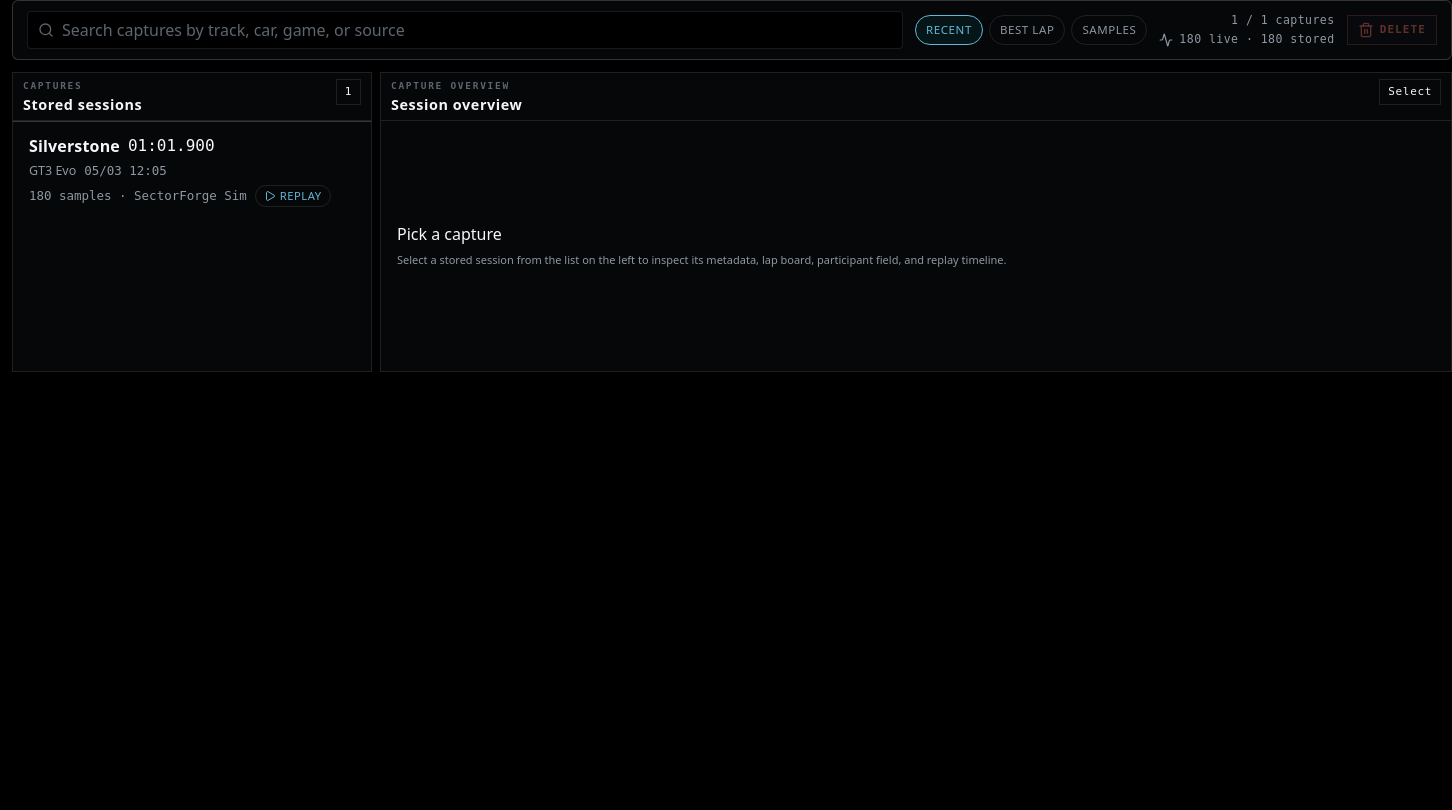
Test: TimingBoard › surfaces delete failures from the local API
Step 1. Click the button "Silverstone" below "Capture overview" → (74, 146), box [13, 122, 371, 219]
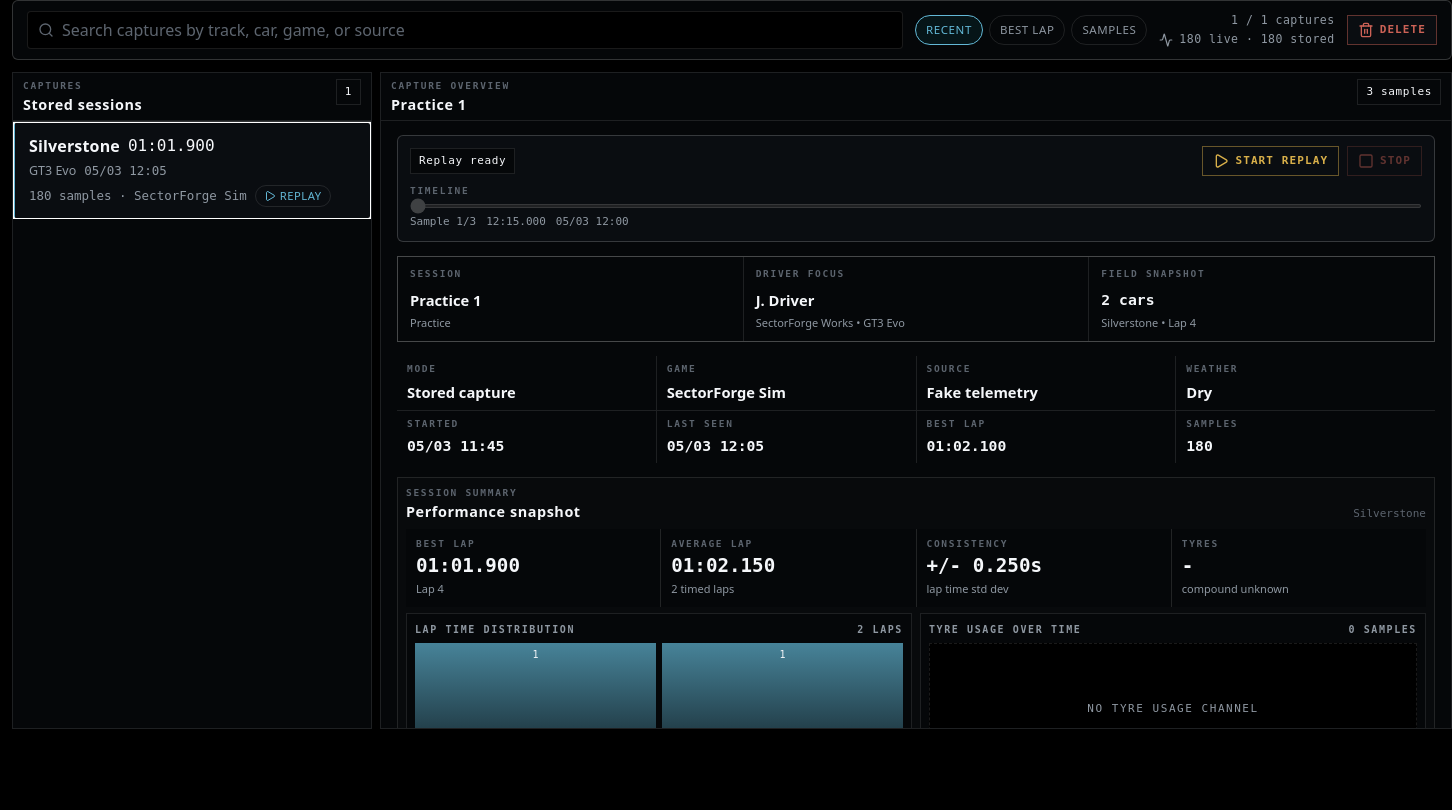
Check: the button with aria-label "Delete selected capture" has attribute title="Delete selected capture"
Step 2. Click the button with aria-label "Delete selected capture" → (1392, 30), box [1347, 15, 1437, 45]
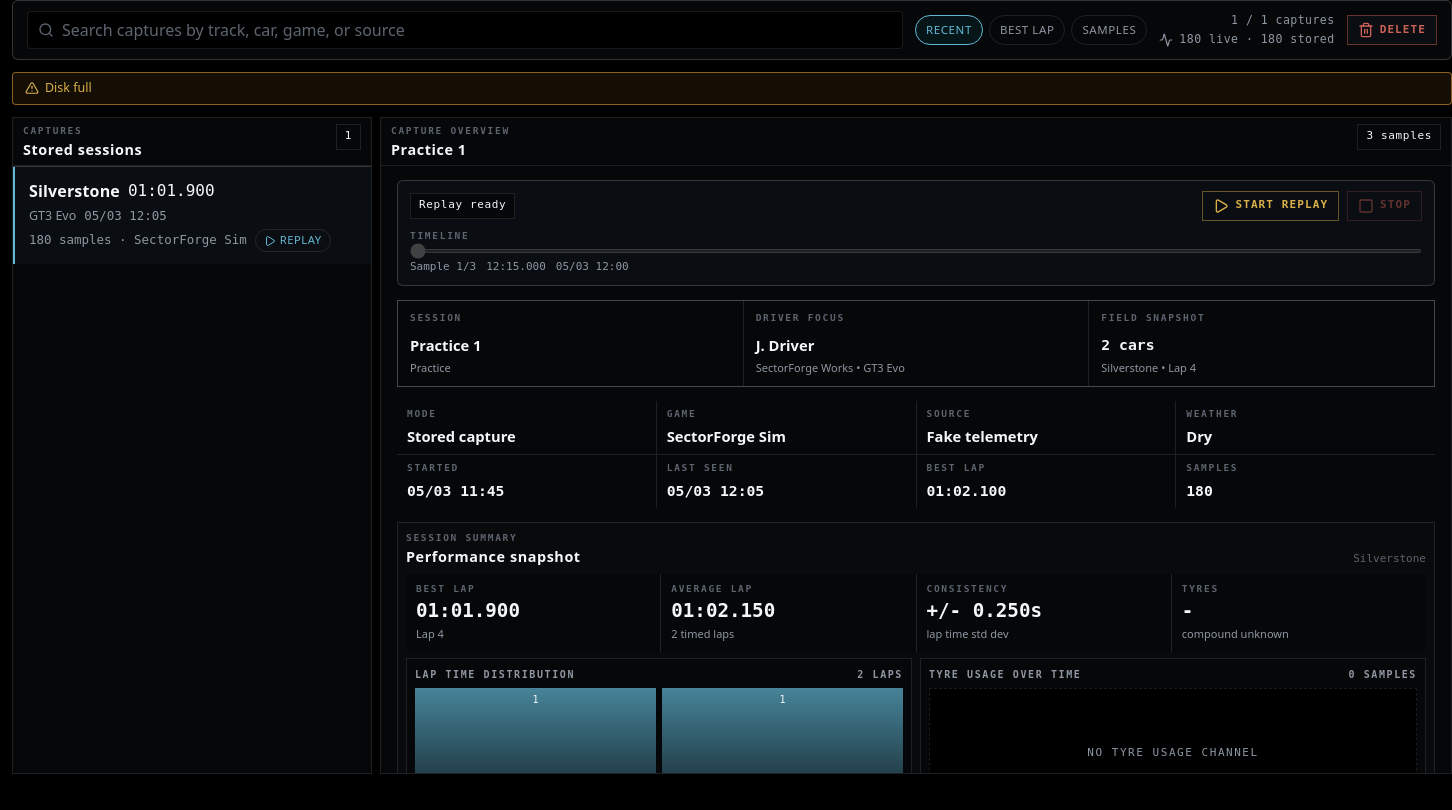
Check: the text "Disk full" is shown, box [45, 79, 92, 96]
